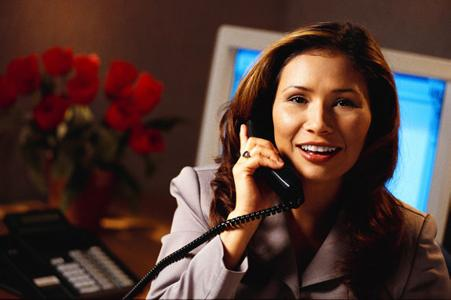person: (147, 20, 449, 300)
